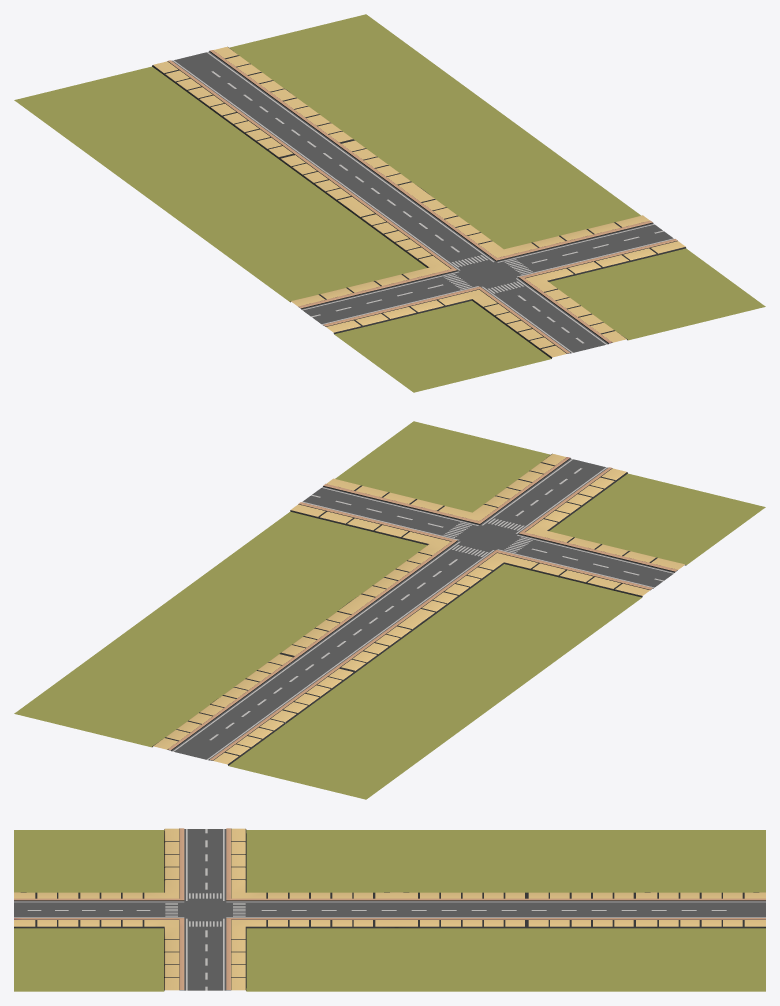
The model's file is Street.fbx.
3 views of the same model, one above another, from view 1: azimuth 30°, elevation 25°; view 2: azimuth 150°, elevation 25°; view 3: azimuth 270°, elevation 25° (orthographic). The views are drawn at different scales.
Parts seen in each view (by area): view 1: Street; view 2: Street; view 3: Street.
Part boxes in pixels (x1,y1,x2,y2): Street: (14,14,765,392); Street: (14,421,765,799); Street: (14,828,765,991).
Bounding box in the file's own units: 25136 × 122 × 49401.
